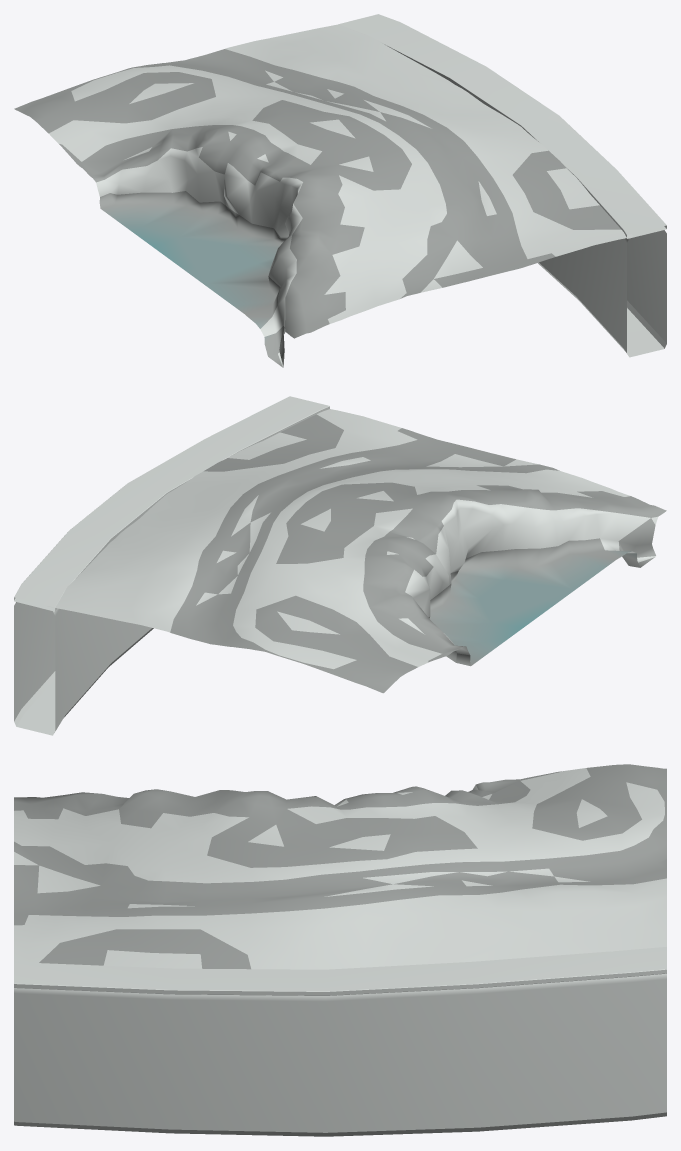
3 views of the same model, one above another, from view 1: azimuth 30°, elevation 25°; view 2: azimuth 150°, elevation 25°; view 3: azimuth 270°, elevation 25° (orthographic). The views are drawn at different scales.
Visible parts, largest first — view 1: G:\FFXIV-MapTools\exports\n5f1\bg\ex4\01_nvt_n5\fld\n5f1\bgp (×16); view 2: G:\FFXIV-MapTools\exports\n5f1\bg\ex4\01_nvt_n5\fld\n5f1\bgp (×16); view 3: G:\FFXIV-MapTools\exports\n5f1\bg\ex4\01_nvt_n5\fld\n5f1\bgp (×11).
Boxes of the visible parts, box(x1,y1,x2,y2) form: G:\FFXIV-MapTools\exports\n5f1\bg\ex4\01_nvt_n5\fld\n5f1\bgp (×16): box(14, 14, 666, 366); G:\FFXIV-MapTools\exports\n5f1\bg\ex4\01_nvt_n5\fld\n5f1\bgp (×16): box(14, 396, 666, 735); G:\FFXIV-MapTools\exports\n5f1\bg\ex4\01_nvt_n5\fld\n5f1\bgp (×11): box(14, 764, 666, 1136).
Bounding box in the file's own units: 105 × 40.08 × 128.
